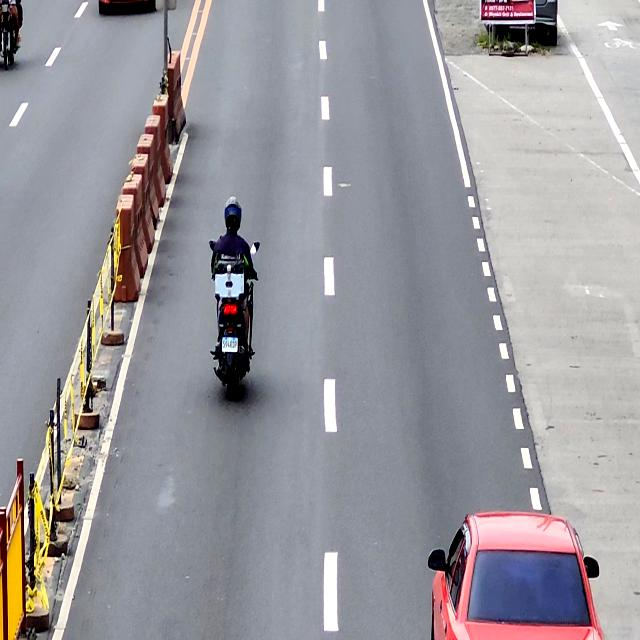Car: (429, 511, 604, 640)
License-Plate: (220, 338, 238, 353)
Motorcycle: (210, 235, 260, 400)
